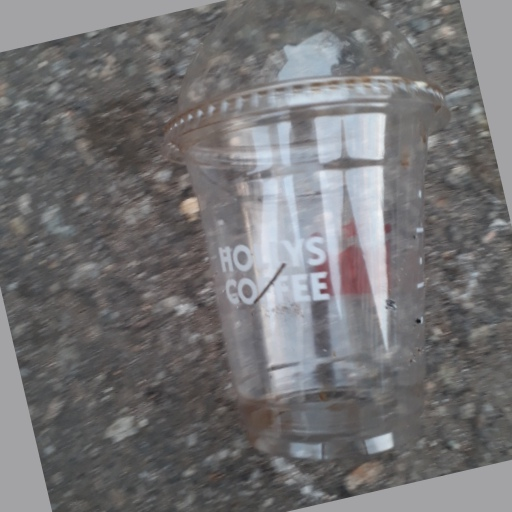Plastic_2: (166, 8, 443, 476)
